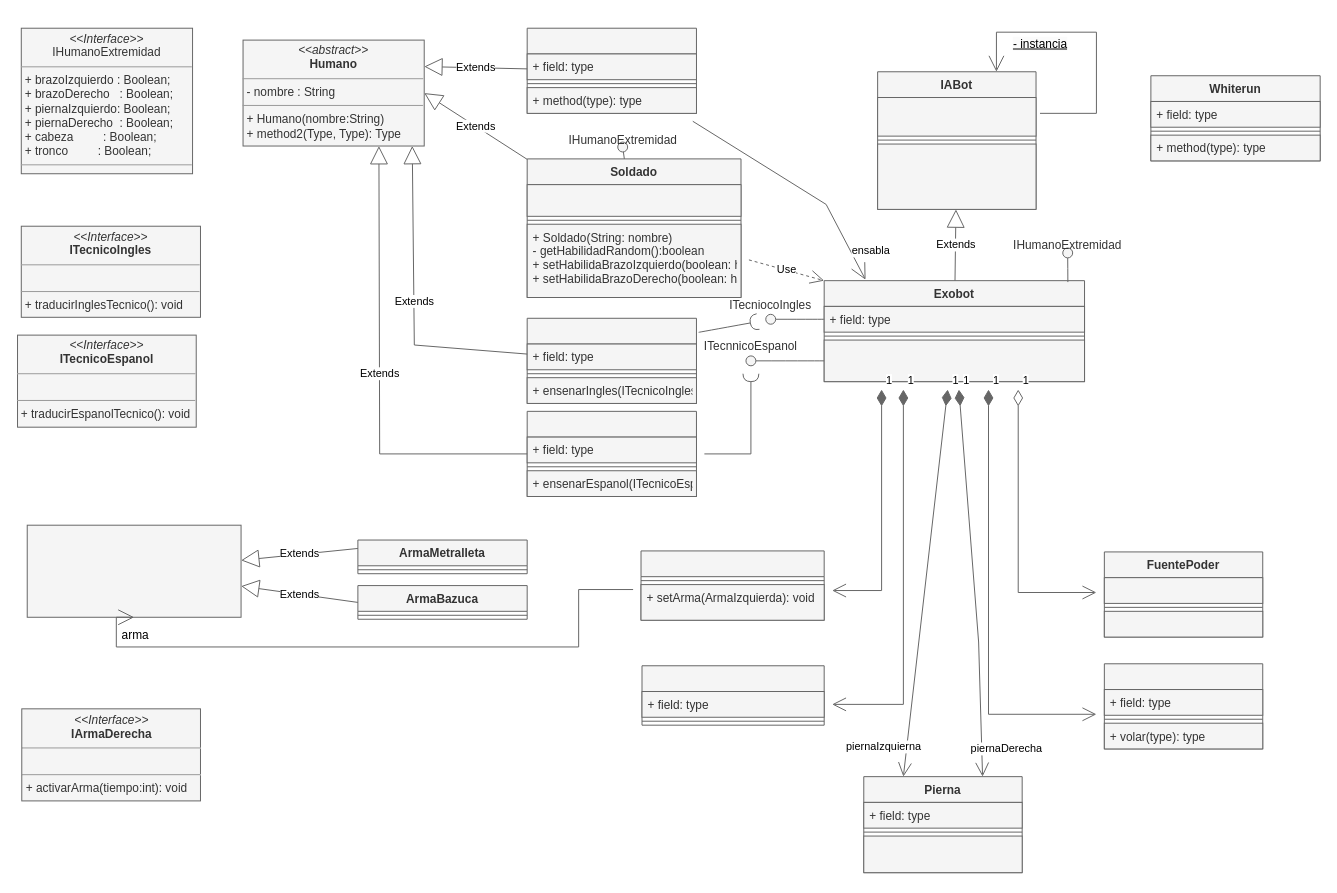
Some shapes in this 1337 by 893 pixel diagram are drawn without their labels. Each missing label, with the box of its shape:
+ correr(velicidad:int): void + saltar(altitud:int): void: (863, 835, 1022, 873)
+ Exobot(iaBot : IABot) + integrarSoldado(soldado : Soldado) : void: (823, 339, 1085, 382)
+ recargar(type): type: (1103, 610, 1263, 637)
- habilidaBrazoIzquierdo: boolean - habilidaBrazoDererecho : boolean: (526, 184, 741, 216)
- IABot() + getInstancia(): IABot + IABot(iaBot: IABot): (877, 143, 1036, 209)
- instancia: IABot - nombre : String: (877, 97, 1036, 136)
- int: nivelEnergia: (1103, 577, 1263, 603)
<< abstract >> ArmaIzquierda - tipo: String + disparar(cantidadBalas:int): void: (26, 524, 241, 617)
BrazoDerecho: (641, 665, 824, 725)
BrazoIzquierdo: (640, 550, 824, 620)
ExpertoEspanol: (526, 410, 696, 496)
ExpertoIngles: (526, 317, 696, 403)
Mecatronico: (526, 27, 696, 113)
TurboReactor: (1103, 663, 1263, 749)
